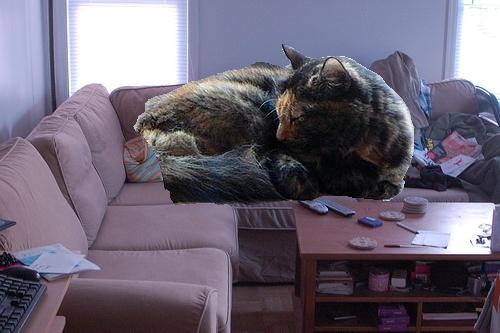tampered: (134, 45, 414, 205)
